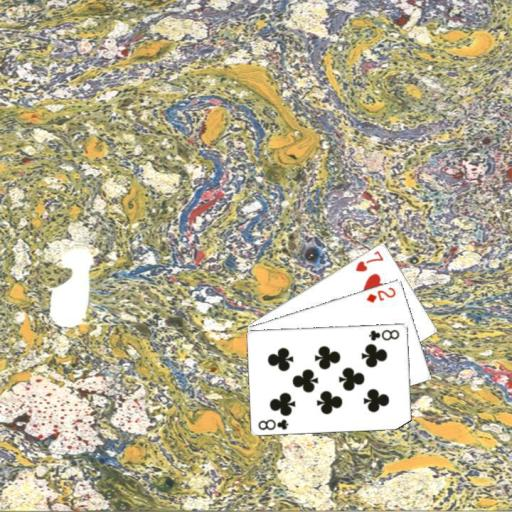2D: (363, 284, 397, 304)
7H: (352, 247, 385, 273)
8C: (366, 326, 401, 342), (255, 416, 290, 431)
